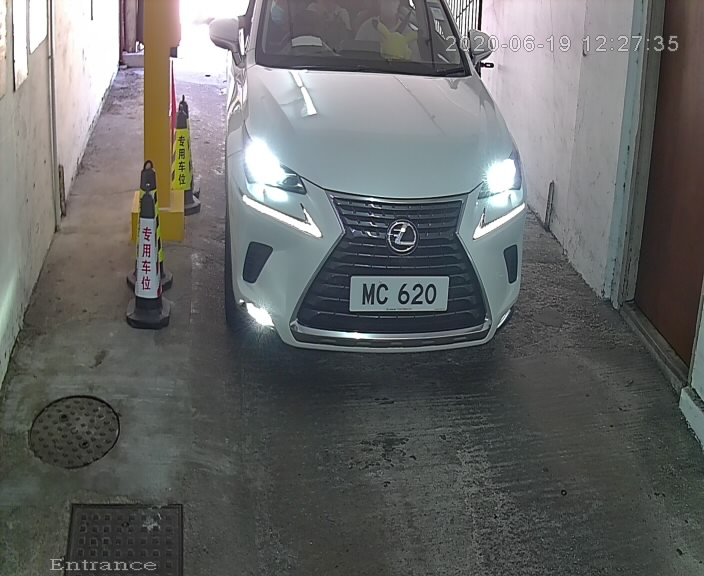privatecar: (211, 3, 534, 372)
